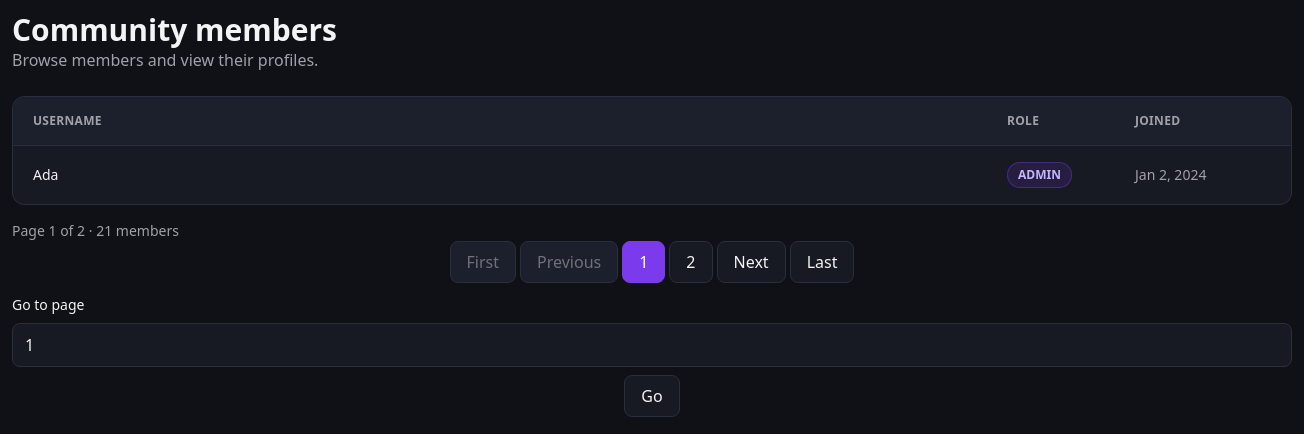
Phase 9 user directory and profiles › requests the next page and respects the returned page/last fields
expect the link with aria-label "View profile for Ada" is shown: met, box left=33, top=165, right=58, bottom=184
Click the button with aria-label "Next page". click: click(751, 262)
box: left=716, top=241, right=786, bottom=283
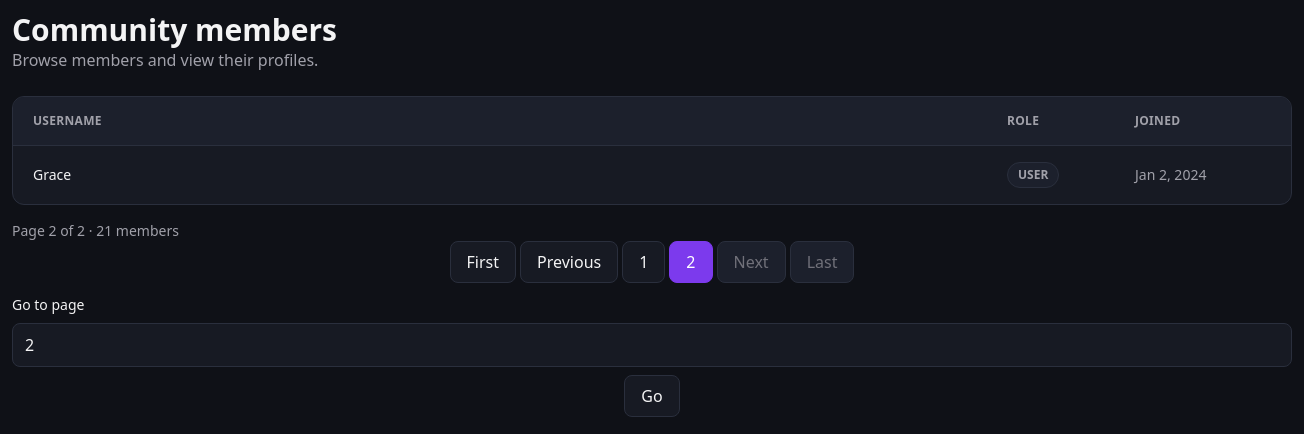
expect the text "Page 2 of 2 · 21 members" is shown: met, box left=12, top=221, right=179, bottom=240
expect the button with aria-label "Next page" is disabled: met, box left=716, top=241, right=786, bottom=283
